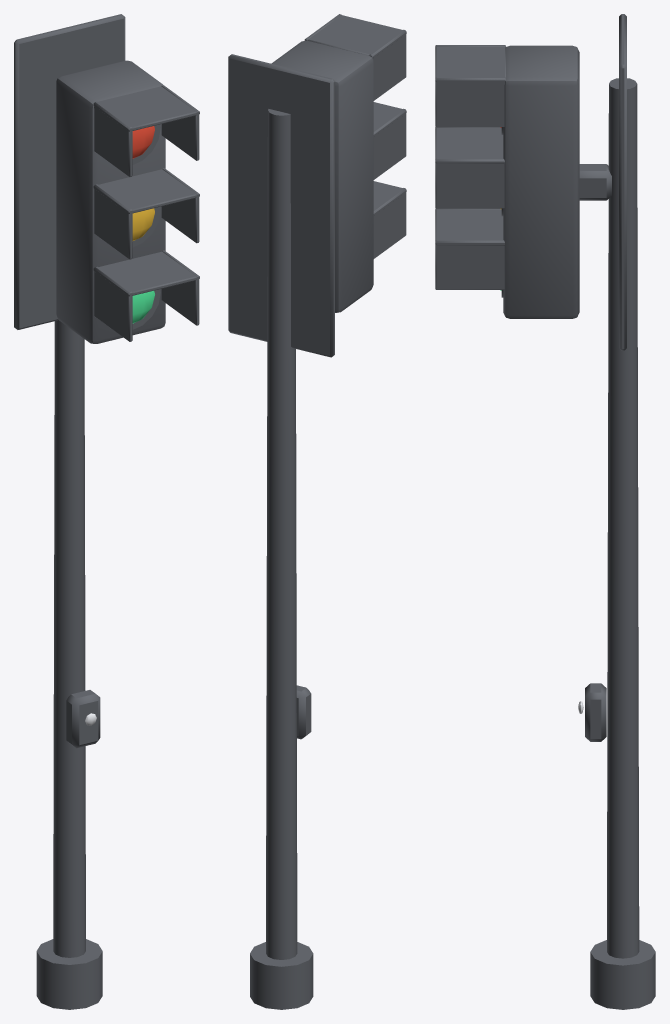
Rendered from TrafficLight_Post.fbx.
3 views of the same model, side by side, from view 1: azimuth 30°, elevation 25°; view 2: azimuth 150°, elevation 25°; view 3: azimuth 270°, elevation 25° (orthographic). The views are drawn at different scales.
Visible parts, largest first — view 1: TrafficLight_Post; view 2: TrafficLight_Post; view 3: TrafficLight_Post.
Boxes of the visible parts, left/top/right/bottom form: TrafficLight_Post: left=14, top=14, right=199, bottom=1009; TrafficLight_Post: left=228, top=14, right=406, bottom=1009; TrafficLight_Post: left=435, top=14, right=655, bottom=1009.
Bounding box in the file's own units: 0.46 × 3.88 × 0.81.
